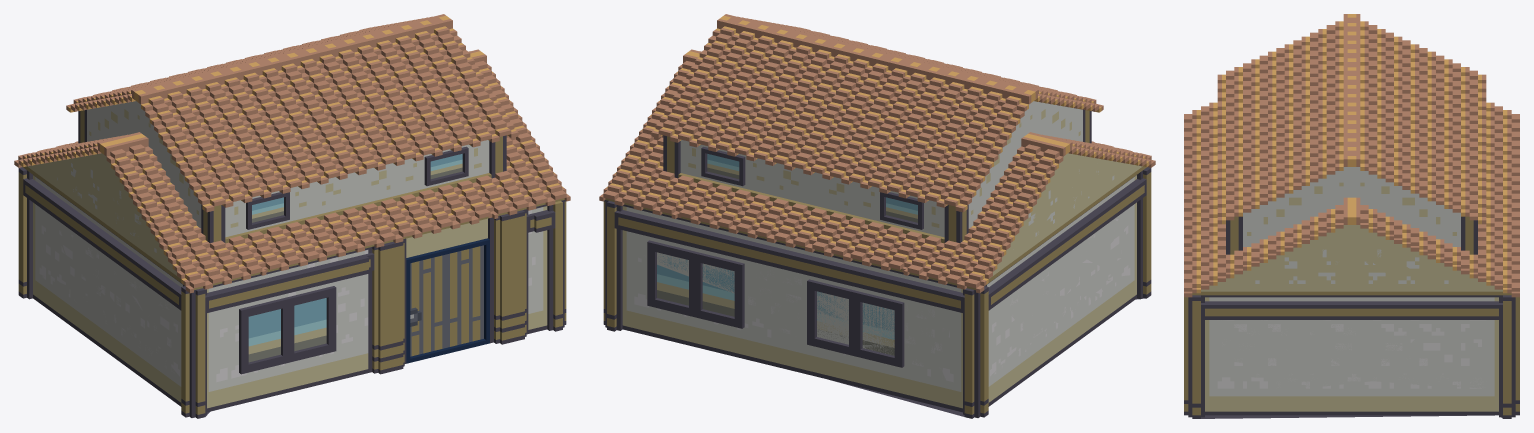
Rendered from PlayerRivaleHouse.fbx.
3 views of the same model, side by side, from view 1: azimuth 30°, elevation 25°; view 2: azimuth 150°, elevation 25°; view 3: azimuth 270°, elevation 25° (orthographic). The views are drawn at different scales.
Visible parts, largest first — view 1: FirstTownHouse; view 2: FirstTownHouse; view 3: FirstTownHouse.
Part boxes in pixels (x1,y1,x2,y2): FirstTownHouse: (14, 14, 570, 418); FirstTownHouse: (599, 14, 1155, 418); FirstTownHouse: (1184, 14, 1519, 418).
Size of the model in its own units: 625 by 400 by 500.
